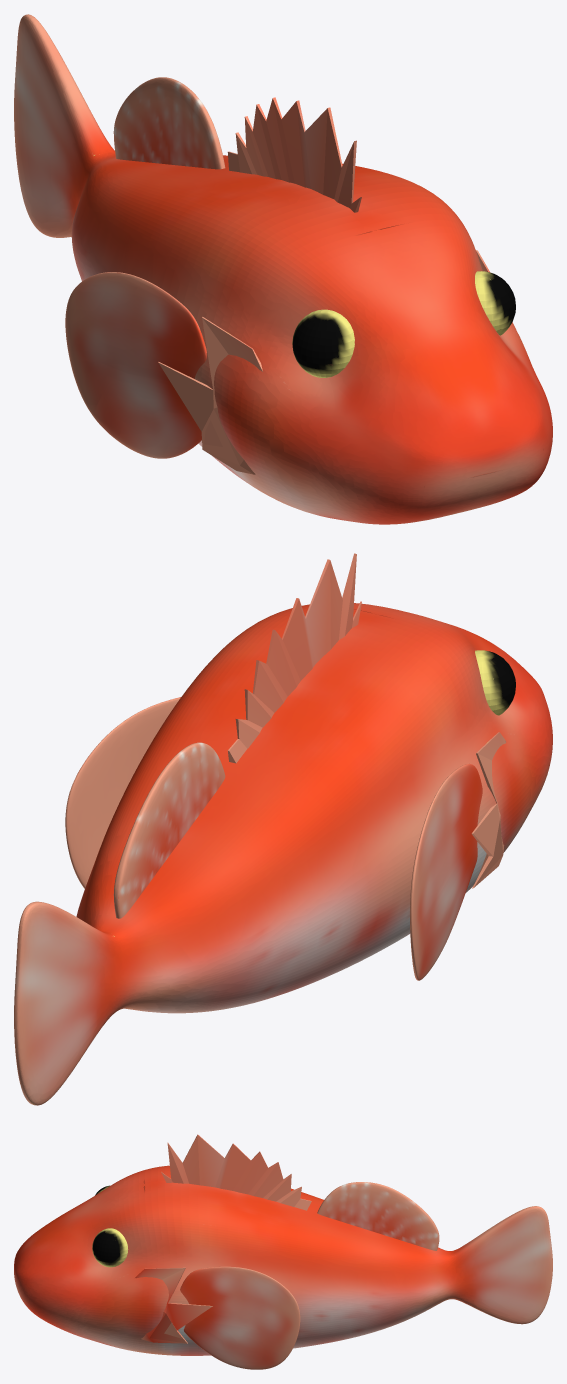
The model's file is akakasago.glb.
The picture shows the model from 3 angles, top to bottom: view 1: azimuth 30°, elevation 25°; view 2: azimuth 150°, elevation 25°; view 3: azimuth 270°, elevation 25°; orthographic projection. The views are drawn at different scales.
Size of the model in its own units: 4.28 by 4.26 by 10.13.
Materials: 1 (1 with a texture image).
